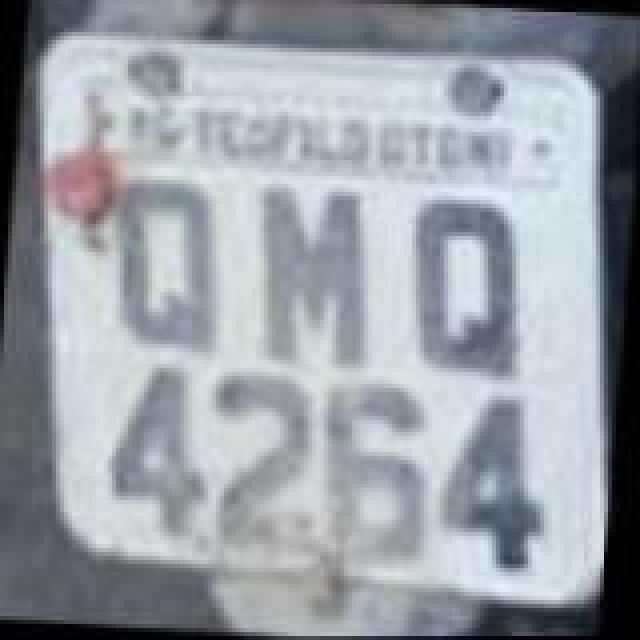2: (198, 364, 330, 560)
4: (440, 386, 560, 578), (98, 362, 222, 546)
6: (310, 372, 442, 572)
M: (248, 174, 384, 366)
Q: (398, 188, 538, 388), (106, 174, 238, 362)
